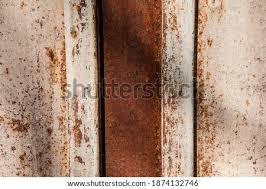rust: (89, 1, 173, 178), (195, 64, 215, 178), (69, 94, 89, 151), (40, 42, 59, 81), (8, 117, 31, 134), (73, 2, 87, 22), (199, 11, 204, 66)
